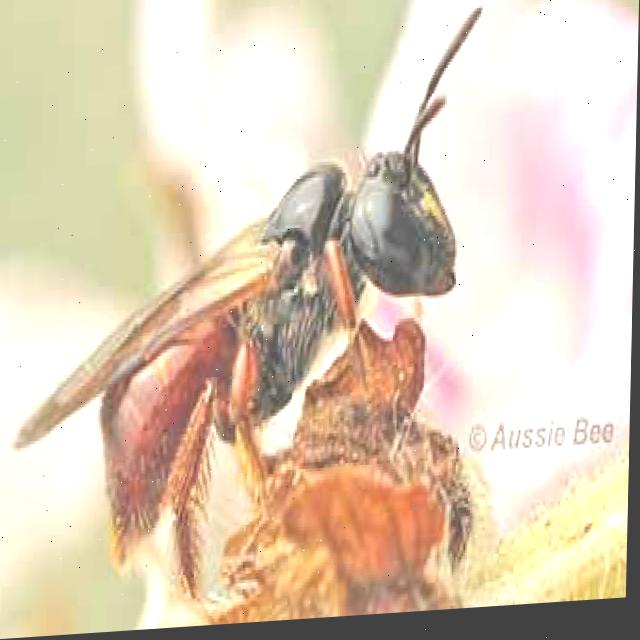Allodapula: (12, 0, 499, 601)
